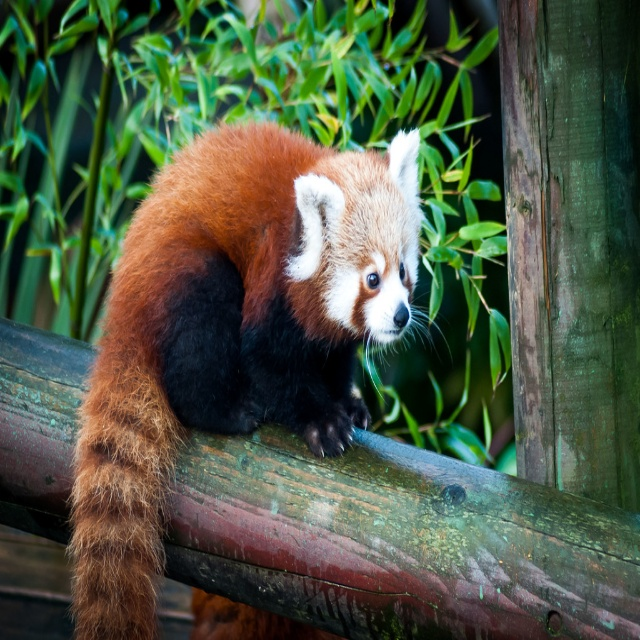Red panda: (62, 112, 448, 639)
